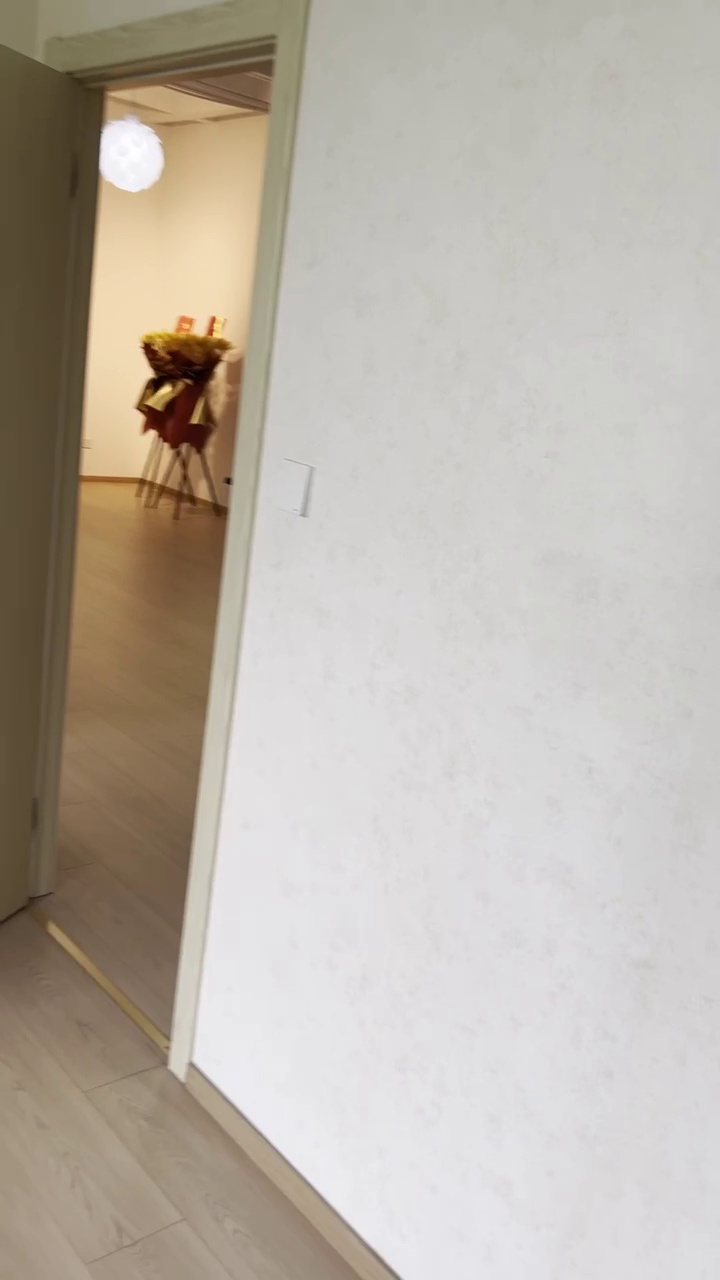button: (270, 458, 313, 520)
